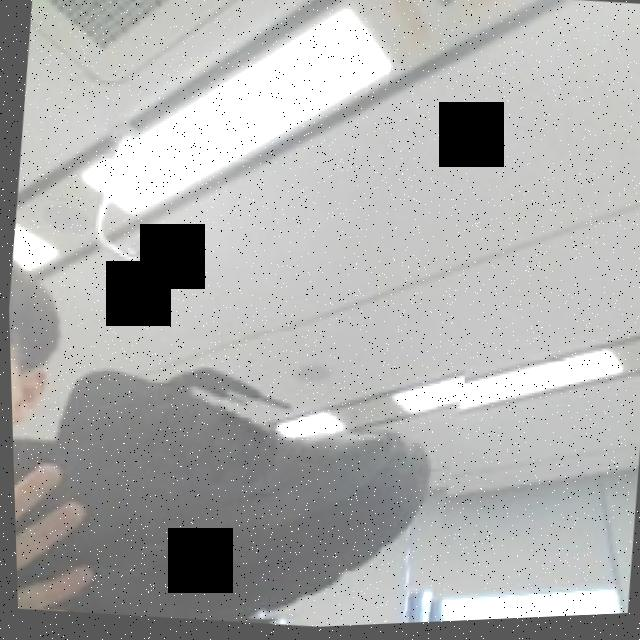shoe: (7, 298, 474, 640)
